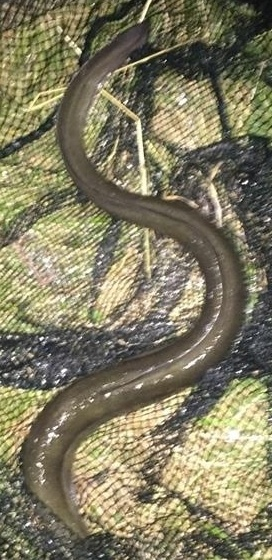Anguilla anguilla: (20, 20, 252, 540)
